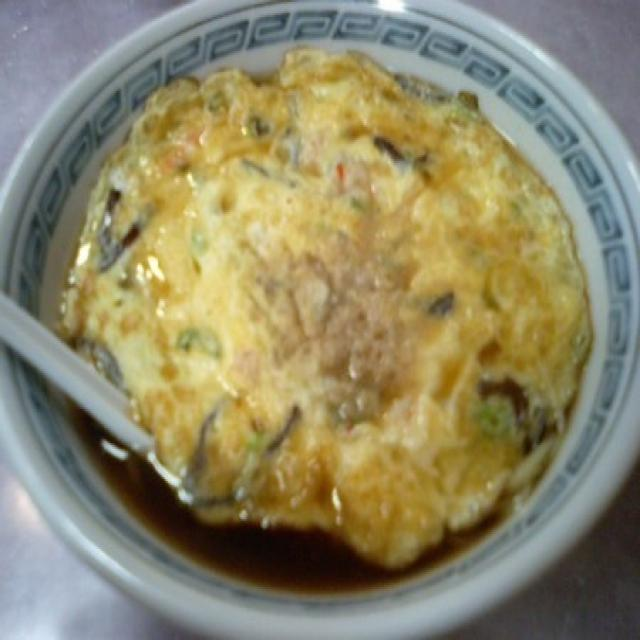面条主食: (3, 4, 640, 640)
